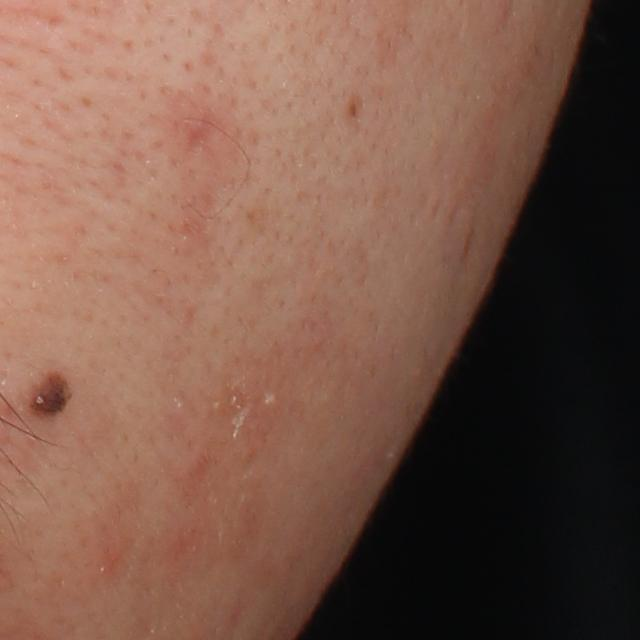atrophic_scar: (182, 113, 224, 163)
nevus: (22, 367, 83, 423)
